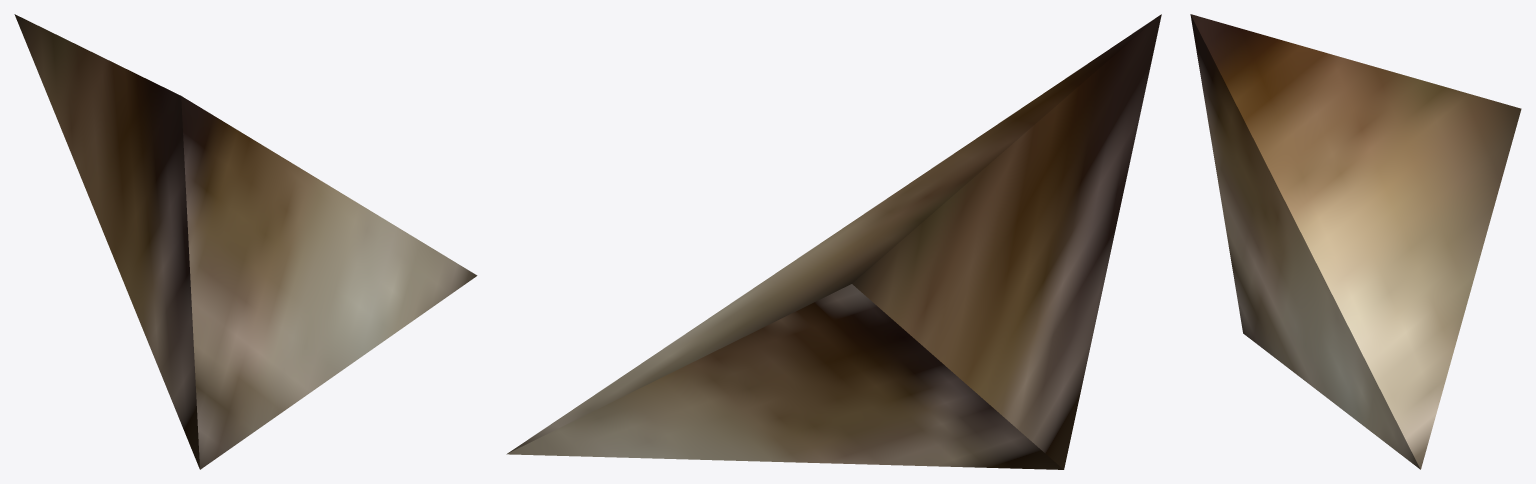
The model's file is ITAT_TROLLTOOTH.glb.
The picture shows the model from 3 angles, left to right: view 1: azimuth 30°, elevation 25°; view 2: azimuth 150°, elevation 25°; view 3: azimuth 270°, elevation 25°; orthographic projection. The views are drawn at different scales.
Visible parts, largest first — view 1: ITAT_TROLLTOOTH; view 2: ITAT_TROLLTOOTH; view 3: ITAT_TROLLTOOTH.
Boxes of the visible parts, box(x1,y1,x2,y2) form: ITAT_TROLLTOOTH: box(14, 14, 477, 469); ITAT_TROLLTOOTH: box(506, 14, 1161, 469); ITAT_TROLLTOOTH: box(1190, 14, 1521, 469).
Bounding box in the file's own units: 0.0923 × 0.0802 × 0.0802.
Materials: 1 (1 with a texture image).
